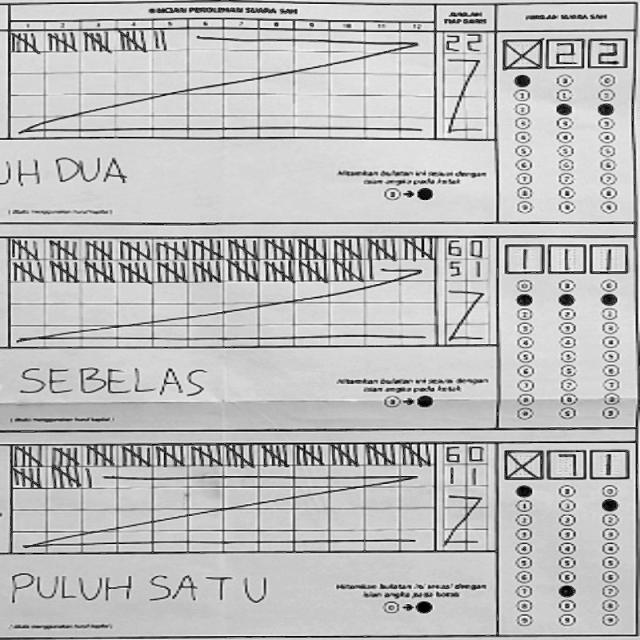Suara: (497, 439, 629, 482), (500, 237, 629, 277), (498, 32, 630, 70)
